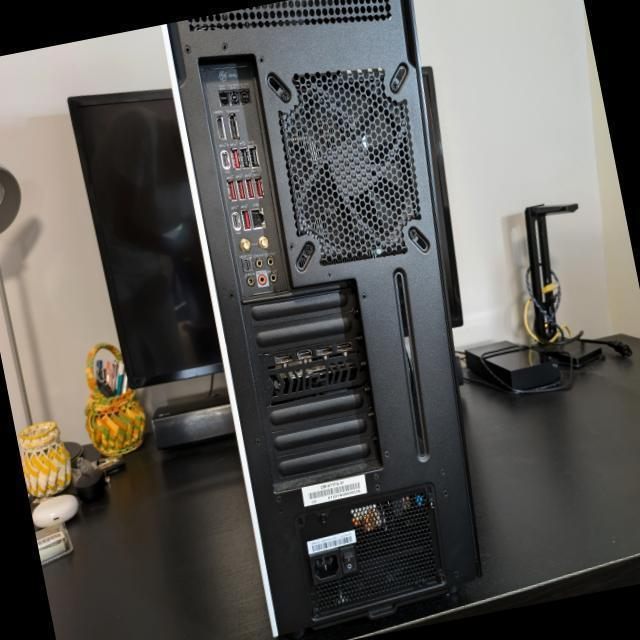PSU: (292, 486, 452, 620)
